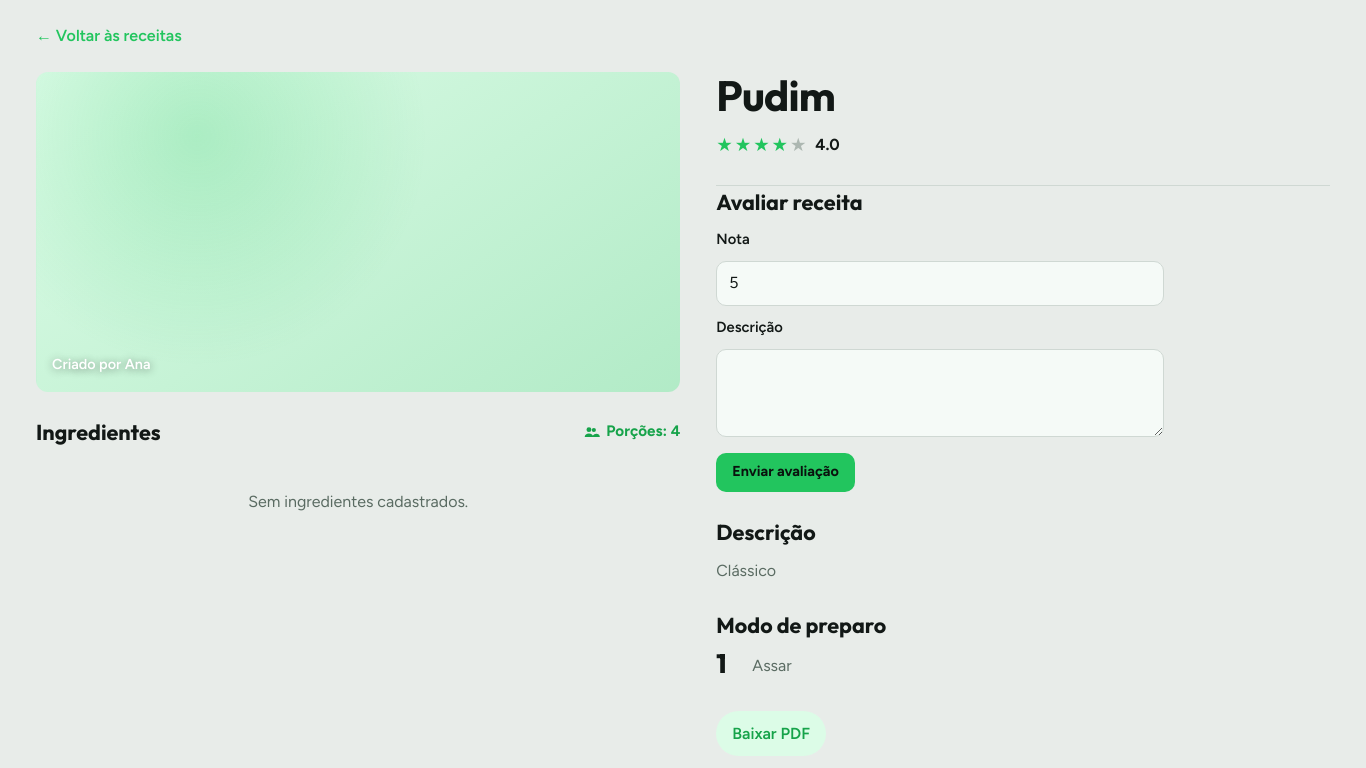
FN-UI-TASTER — avaliação no detalhe público › AC-05: segundo create (409) mostra toast error e não duplica minha review
Expected: the heading "Pudim" is shown, [716,69,835,122]
Replace the text in the number field labelled "Nota" with "4" at (940, 283), box [716,261,1164,306]
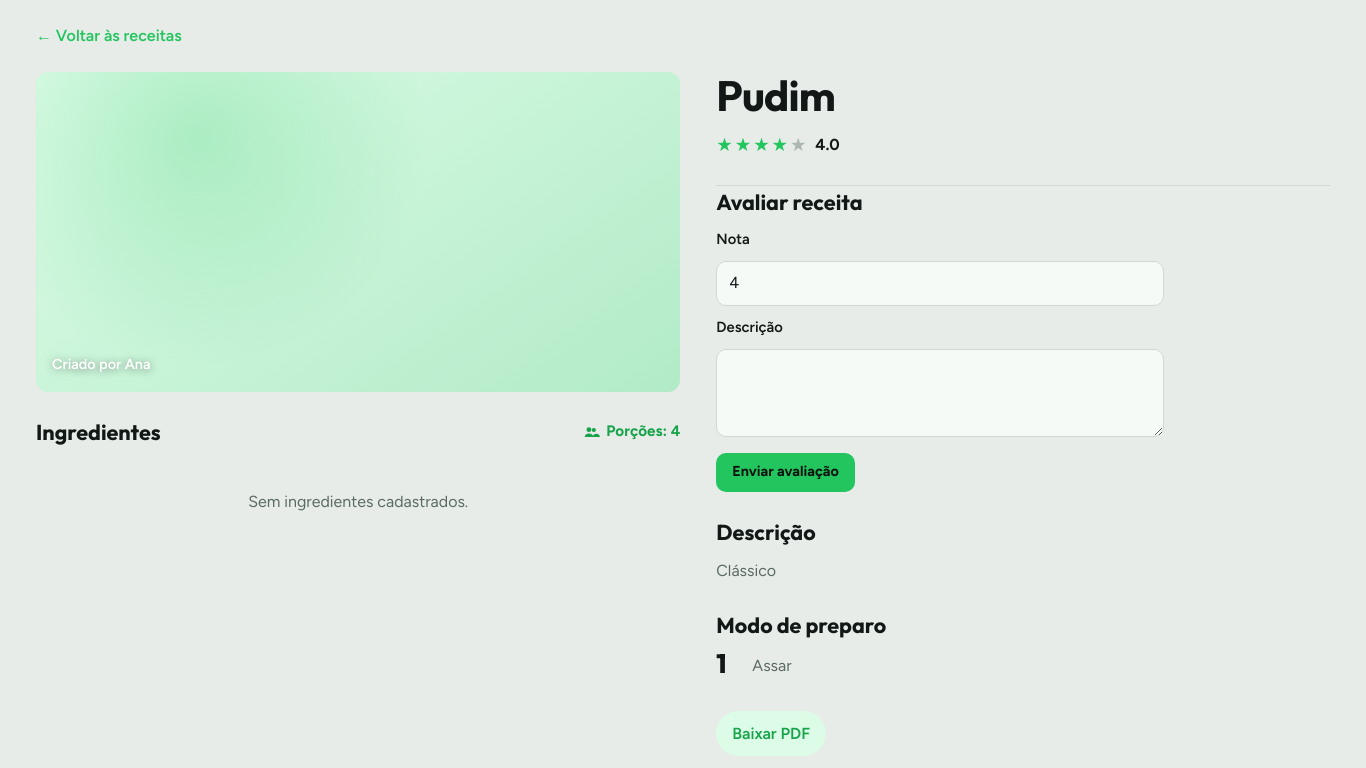
Type "Duplicata" into the text box labelled "Descrição".
click(940, 393); type("Duplicata")  # box [716,349,1164,437]
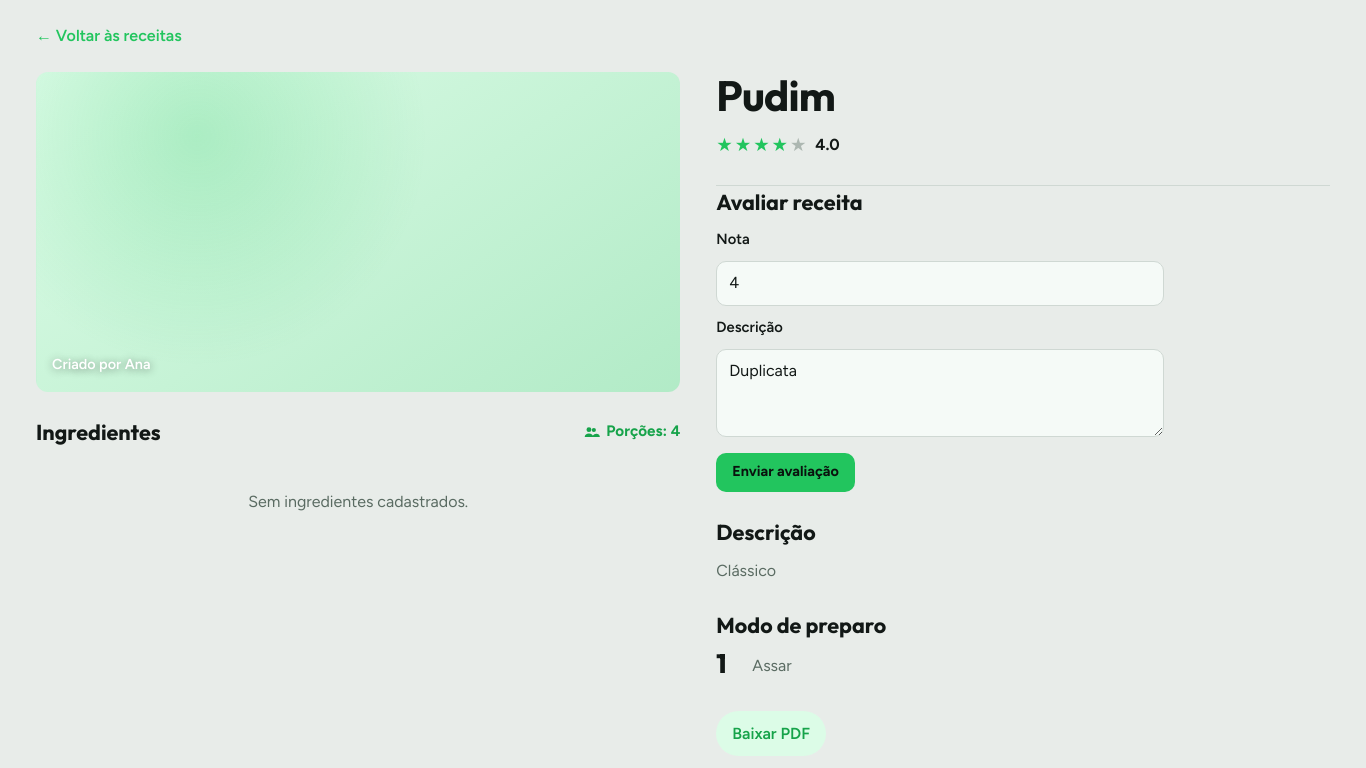
Click the button "Enviar avaliação".
click(786, 472)  # box [716,453,855,492]
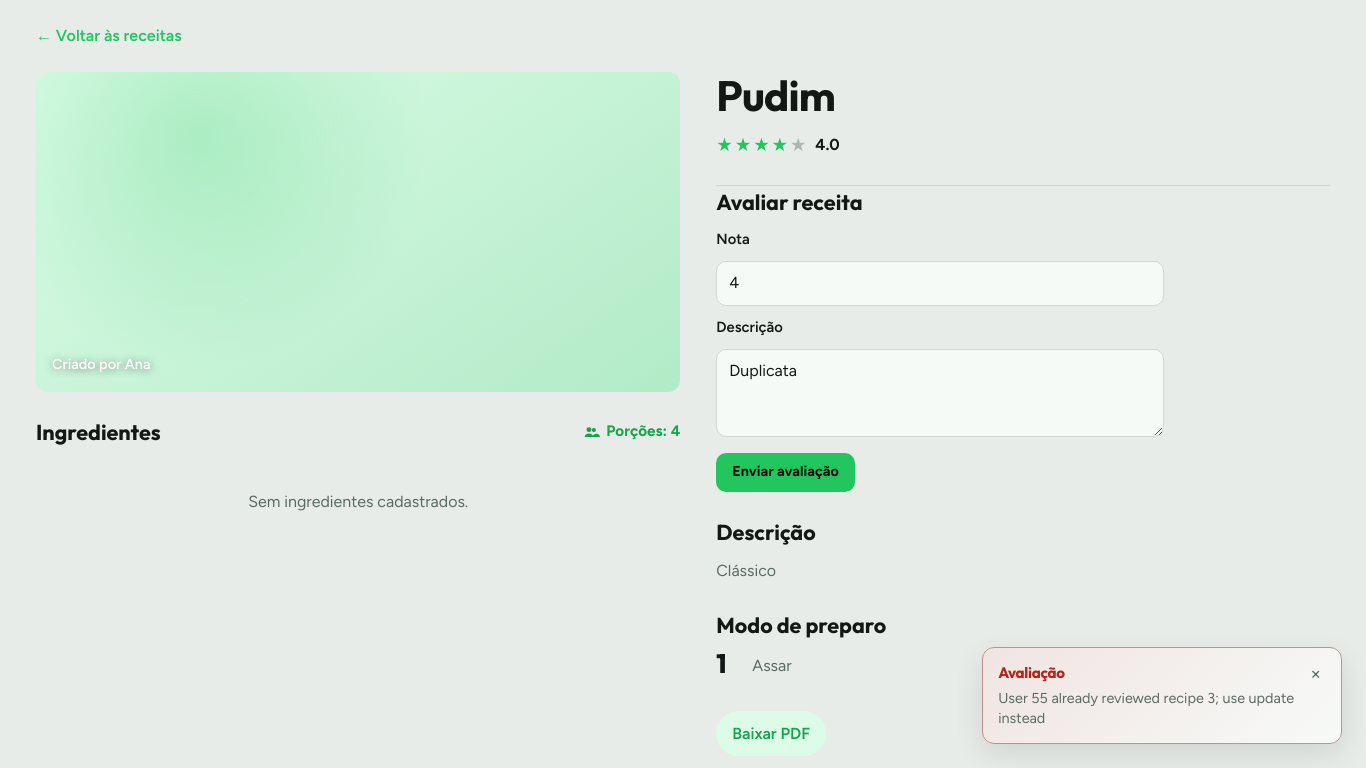
Expected: the text "User 55 already reviewed recipe 3; use update instead" is shown, [998,688,1296,729]
